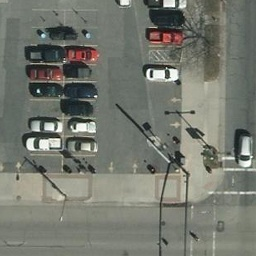car: (234, 131, 254, 167), (145, 27, 181, 44), (148, 7, 184, 24), (27, 45, 63, 61), (25, 63, 61, 79), (27, 82, 63, 98), (26, 117, 62, 133), (26, 135, 62, 151), (68, 138, 104, 154), (66, 119, 102, 135), (66, 48, 99, 62), (142, 63, 175, 77), (61, 101, 92, 115), (64, 85, 97, 98), (63, 66, 93, 78)
